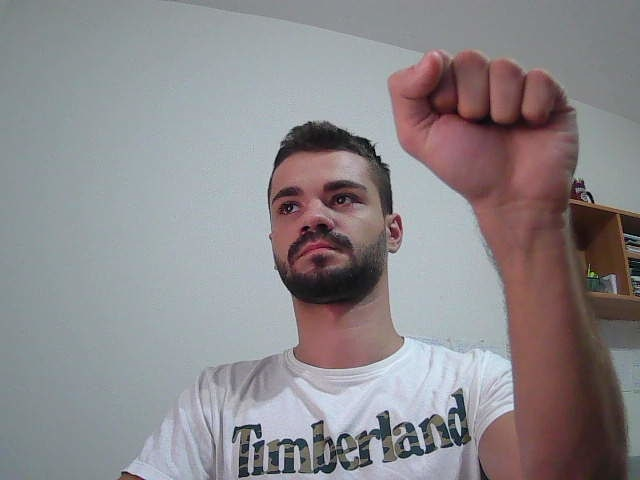a: (356, 29, 631, 441)
